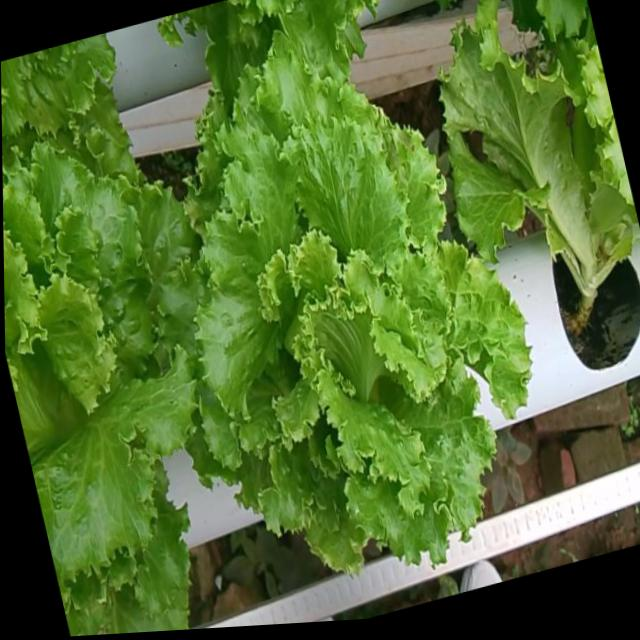Mature: (179, 67, 526, 585), (3, 155, 196, 601)
